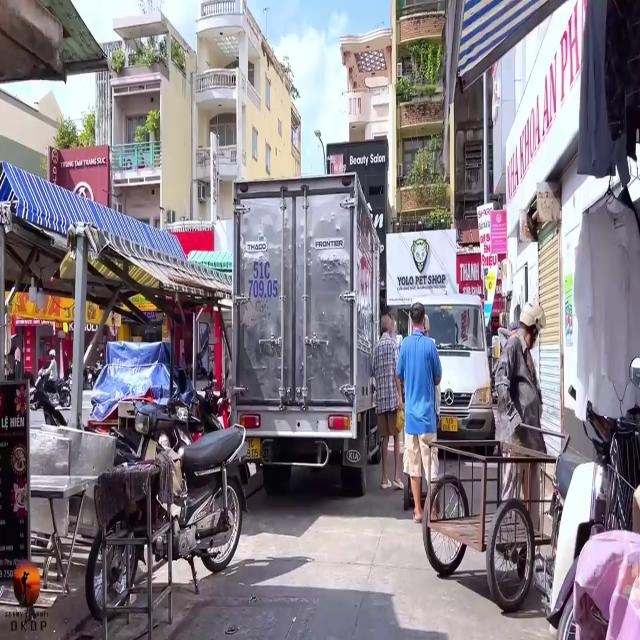bien_vang: (238, 430, 263, 464), (440, 412, 458, 434)
